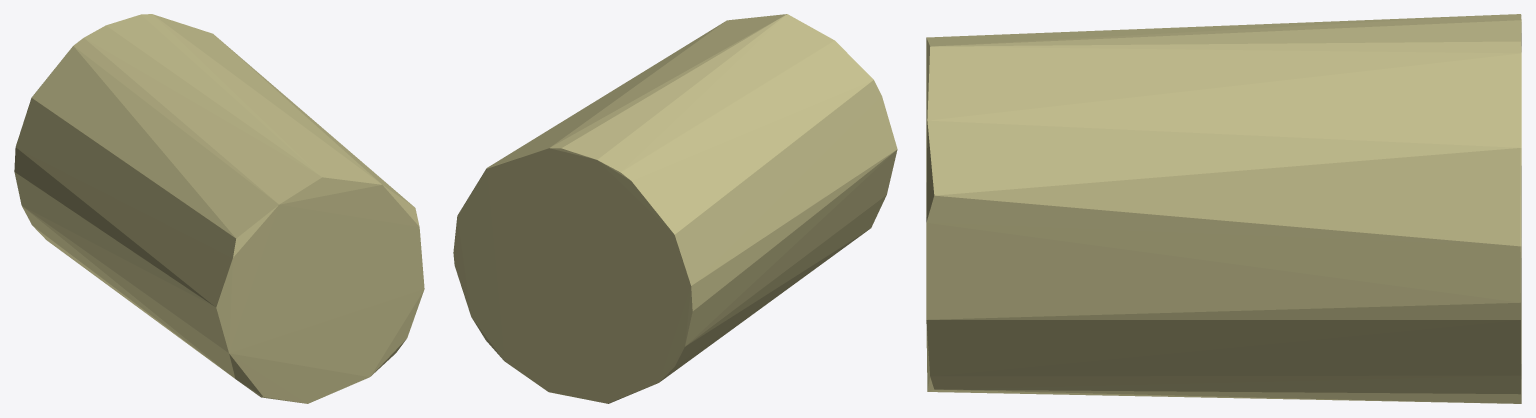
File: food_beverage_coffeeCup_h01.glb
3 renders of one model, left to right at view 1: azimuth 30°, elevation 25°; view 2: azimuth 150°, elevation 25°; view 3: azimuth 270°, elevation 25°, orthographic. The views are drawn at different scales.
Parts seen in each view (by area): view 1: geometry_0; view 2: geometry_0; view 3: geometry_0.
Part boxes in pixels (left/top/right/bottom): geometry_0: left=14, top=14, right=424, bottom=403; geometry_0: left=453, top=14, right=897, bottom=403; geometry_0: left=926, top=14, right=1521, bottom=403.
Bounding box in the file's own units: 0.3176 × 0.3135 × 0.48.
